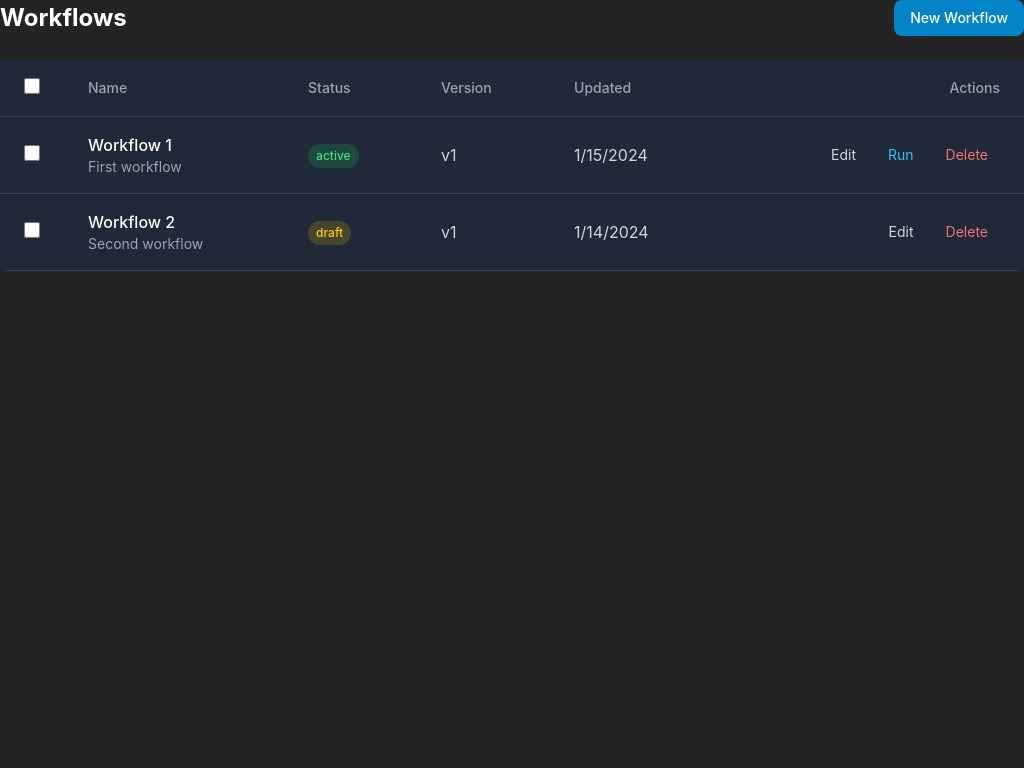
WorkflowList Integration › Delete workflow › should show error if delete fails
Click the button "Delete" in the row of "Workflow 1" at (967, 155), box [934,141,1000,169]
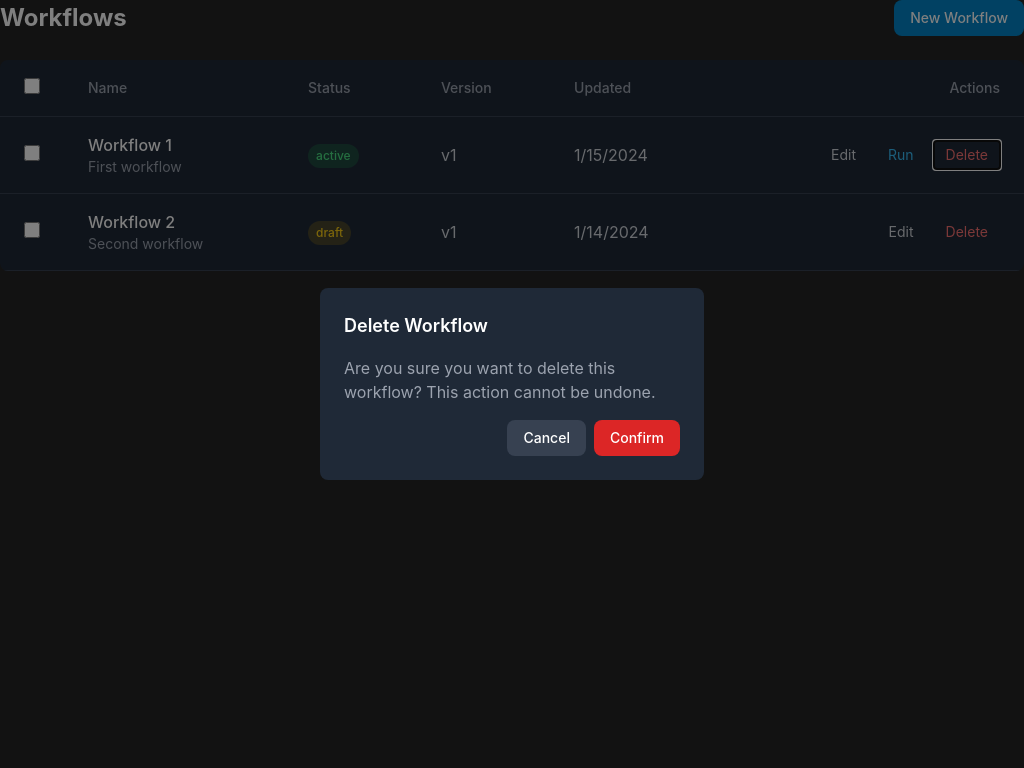
Click the button "Confirm" at (637, 438), box [594,420,680,456]
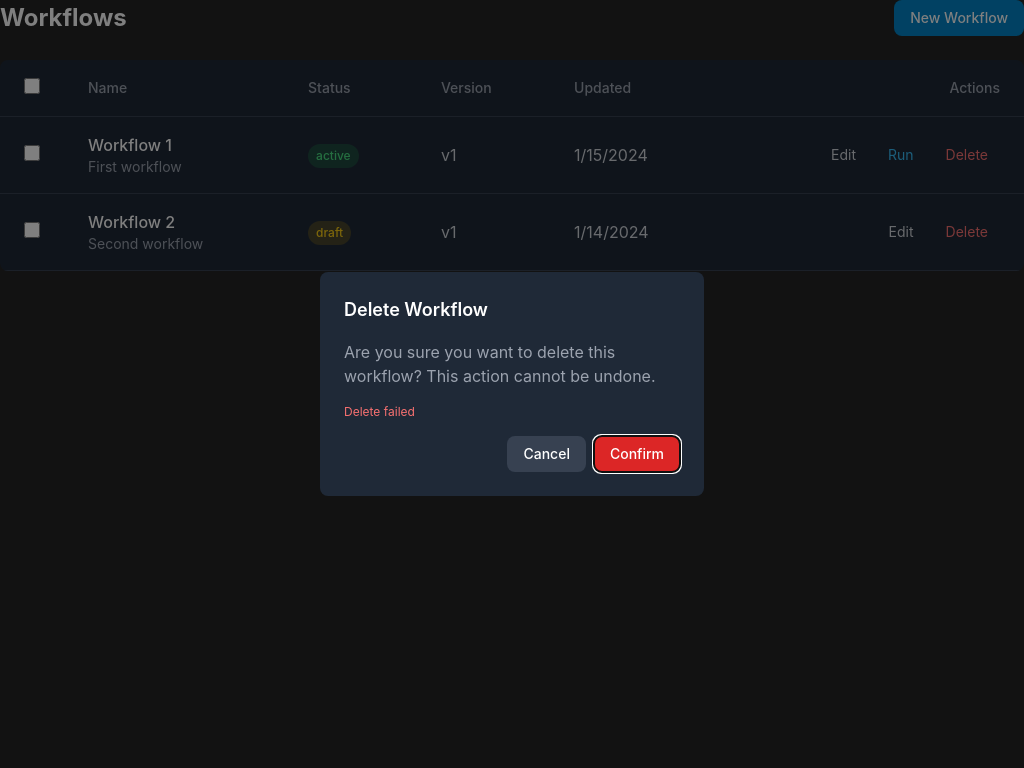
Result: the text "Delete failed" is shown at [344,404,415,419]
